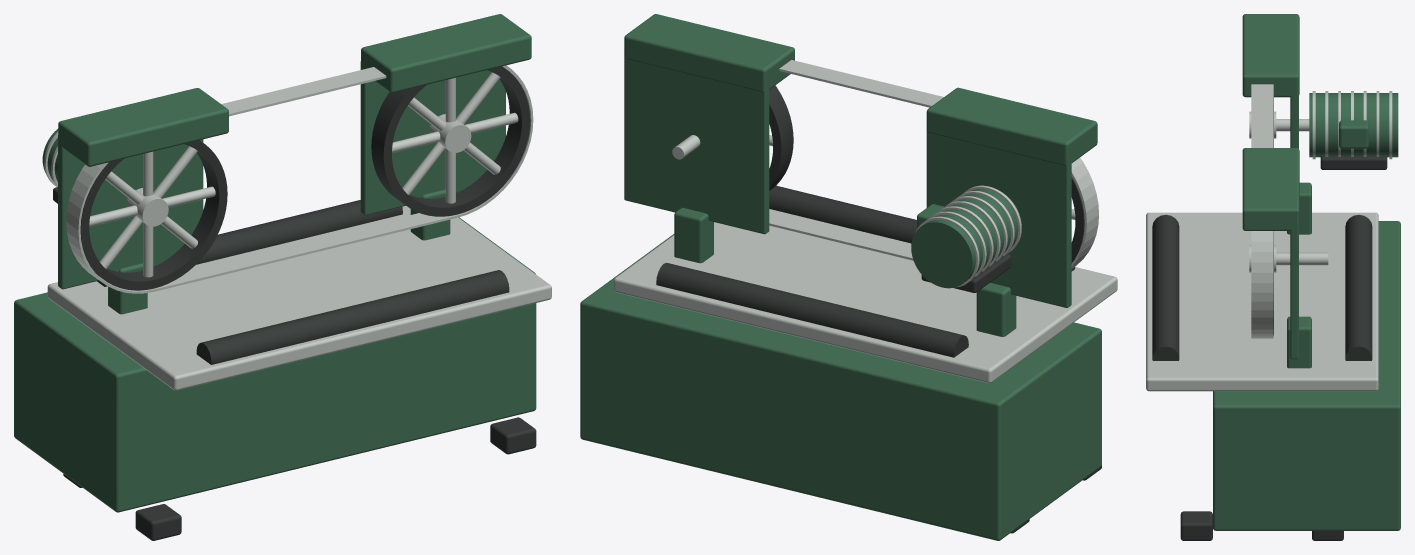
The model's file is sawmill-and-timber-yard-horizontal-resaw-fd1d8270__31177.glb.
3 views of the same model, side by side, from view 1: azimuth 30°, elevation 25°; view 2: azimuth 150°, elevation 25°; view 3: azimuth 270°, elevation 25° (orthographic). The views are drawn at different scales.
Visible parts, largest first — view 1: horizontal-resaw; view 2: horizontal-resaw; view 3: horizontal-resaw.
Part boxes in pixels (x1,y1,x2,y2): horizontal-resaw: (14, 14, 551, 540); horizontal-resaw: (580, 14, 1117, 540); horizontal-resaw: (1146, 14, 1400, 540).
Size of the model in its own units: 1.92 by 1.54 by 1.03.
